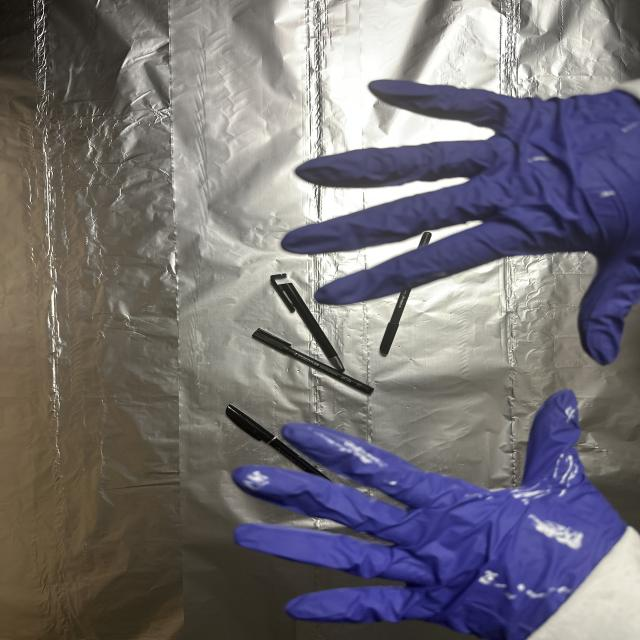gloves_contaminated: (282, 80, 640, 364), (234, 391, 626, 640)
